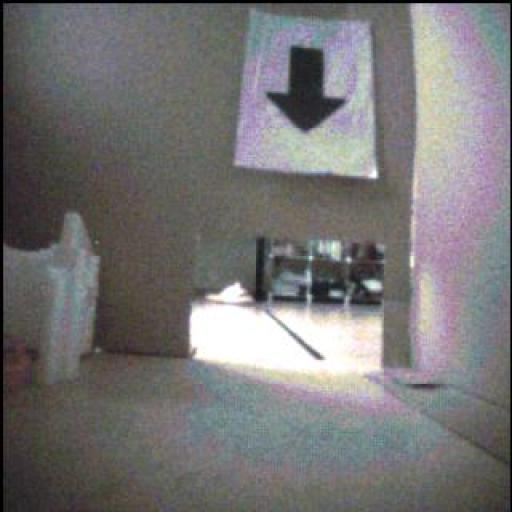arrow: (268, 48, 347, 133)
